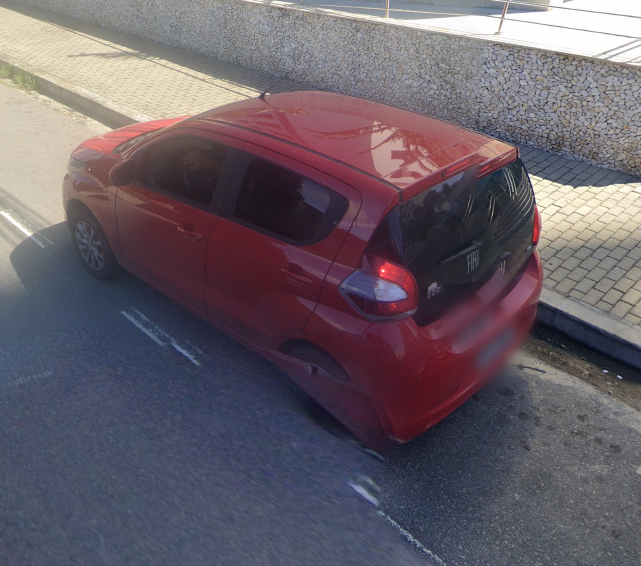car: (60, 65, 547, 464)
